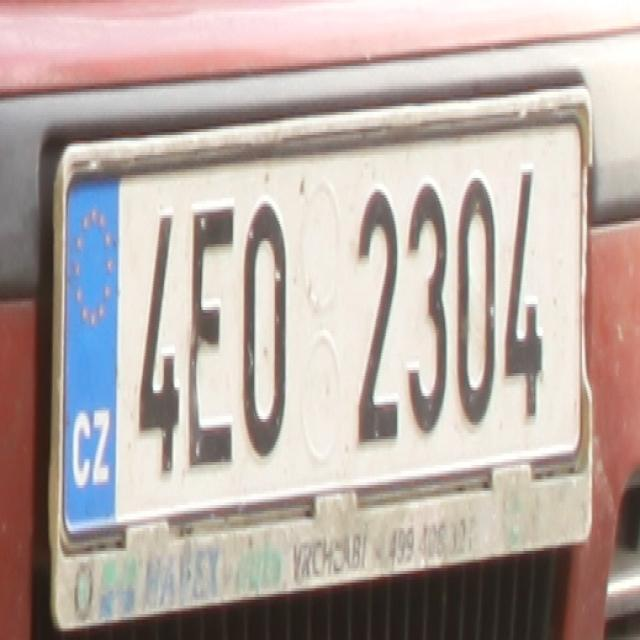0: (238, 192, 288, 465), (452, 175, 496, 439)
2: (350, 180, 400, 454)
3: (406, 178, 448, 442)
4: (500, 170, 552, 430), (133, 207, 181, 482)
E: (185, 200, 233, 480)
